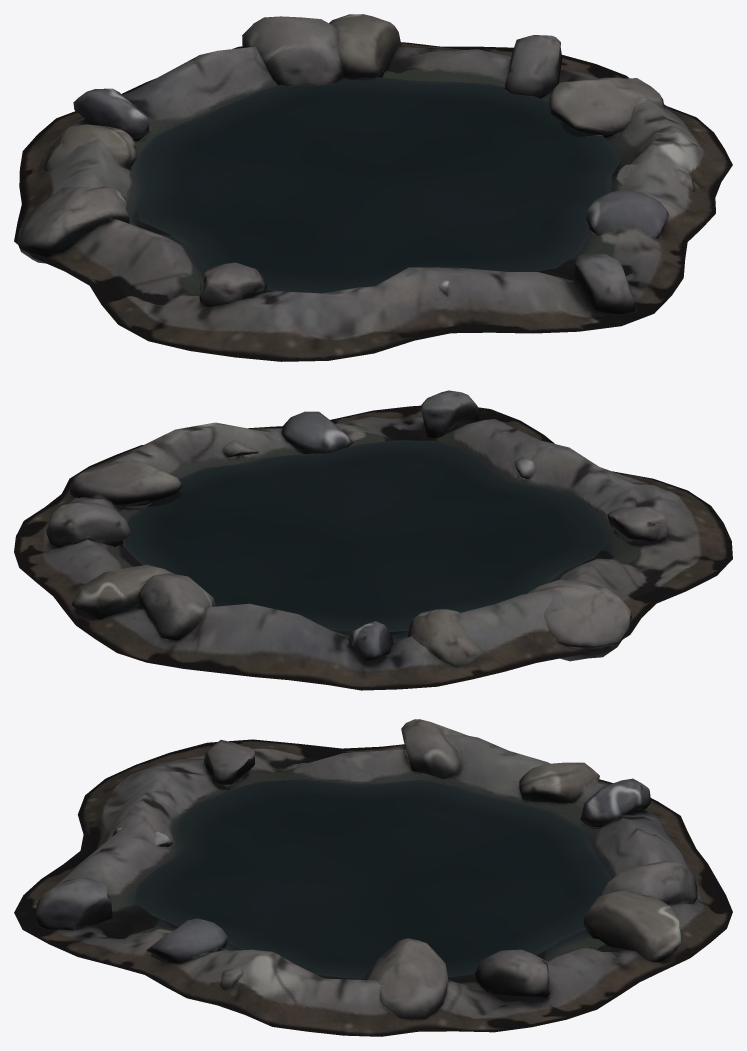
The model's file is cavern_pool.glb.
3 renders of one model, top to bottom at view 1: azimuth 30°, elevation 25°; view 2: azimuth 150°, elevation 25°; view 3: azimuth 270°, elevation 25°, orthographic. The views are drawn at different scales.
Parts seen in each view (by area): view 1: cavern_pool; view 2: cavern_pool; view 3: cavern_pool.
Part boxes in pixels (bbox=[...]): cavern_pool: bbox=[14, 14, 732, 361]; cavern_pool: bbox=[14, 390, 732, 690]; cavern_pool: bbox=[14, 719, 732, 1036].
Size of the model in its own units: 2.56 by 0.2943 by 2.62.
1 material, 1 textured.
